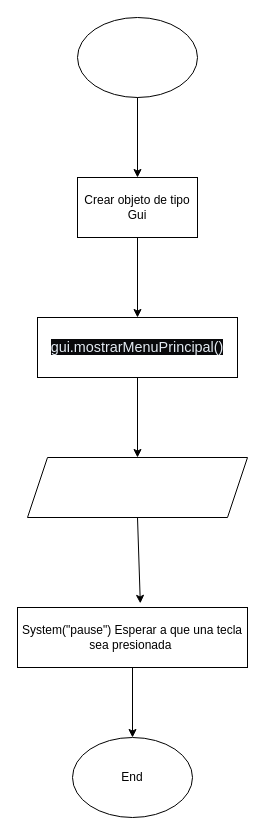
This 265x835 diagram has some shape labels left out. Here are the shapes that lost their labels. From the top down, the centre of each, then its label:
At point 137,57: "Start".
At point 137,487: "Esperar la decision del usuario".
